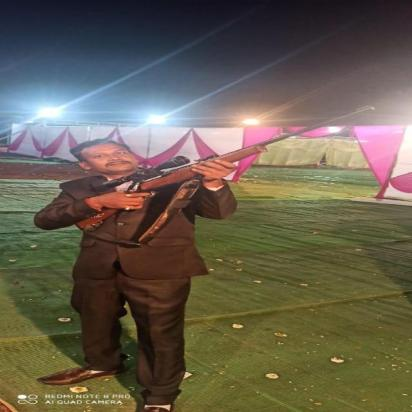Gun: (71, 104, 380, 233)
